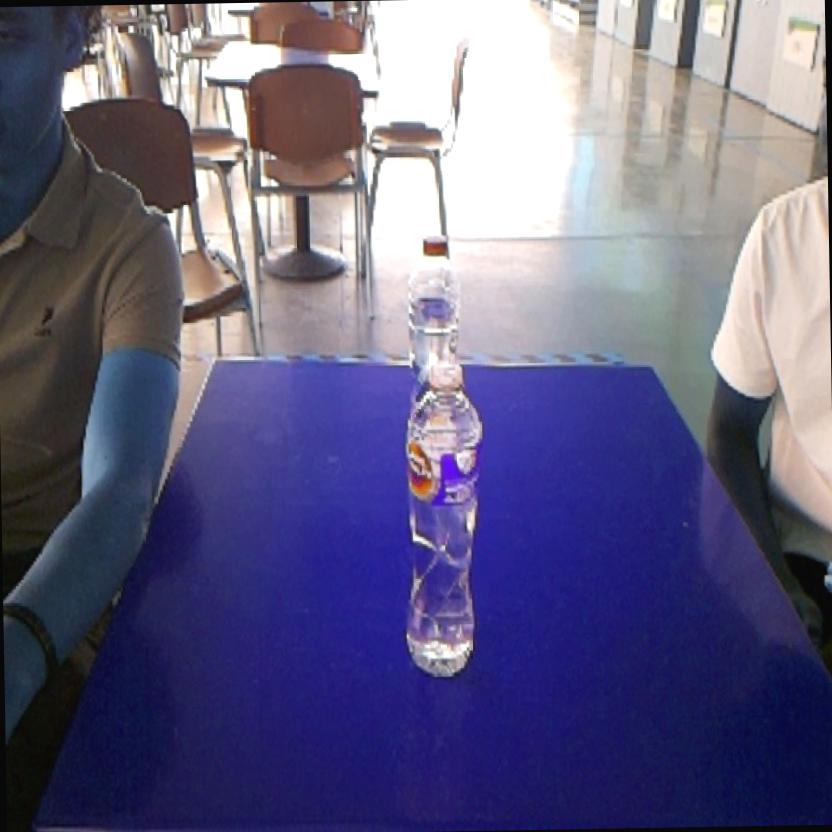no_cap: (392, 344, 492, 686)
no_label: (395, 225, 477, 353)
